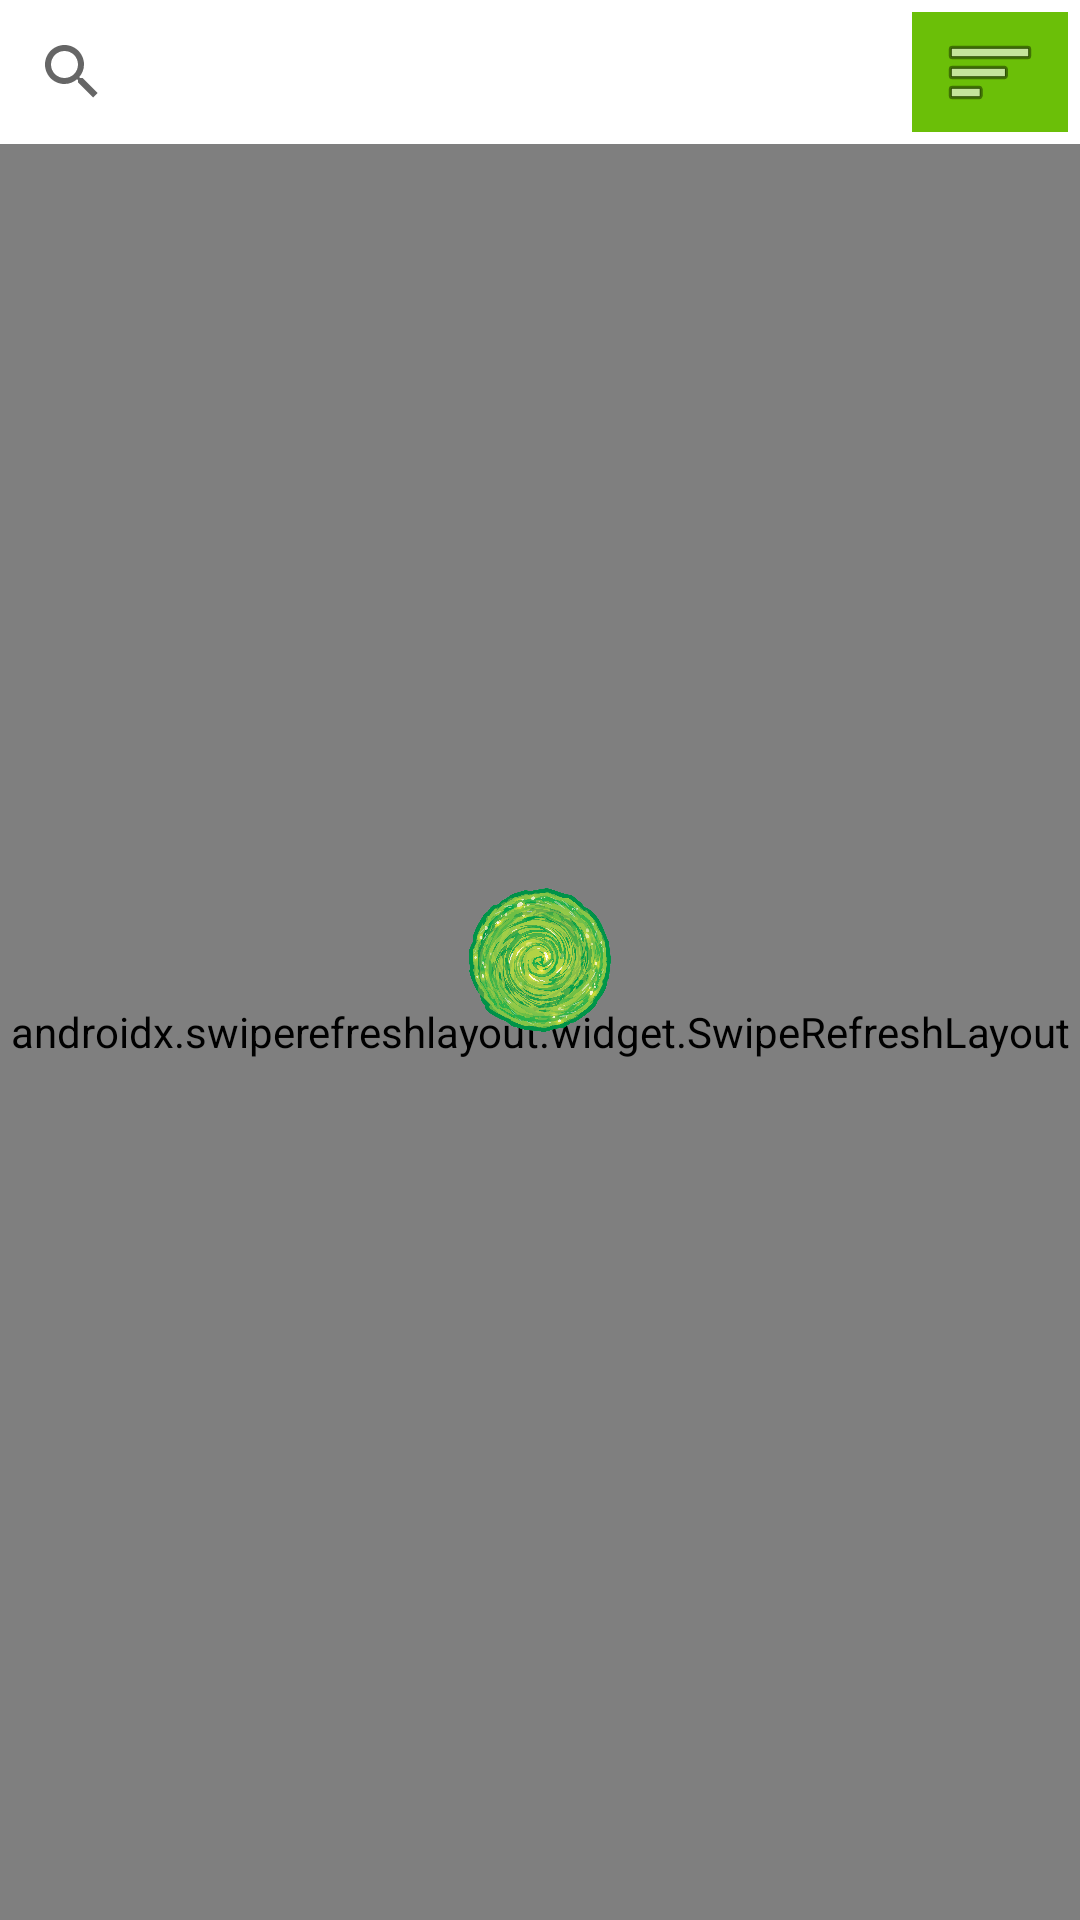

Icon click points for this 1080px×1920px phone screenshot, format [x,y]:
Filters: [990,72]
